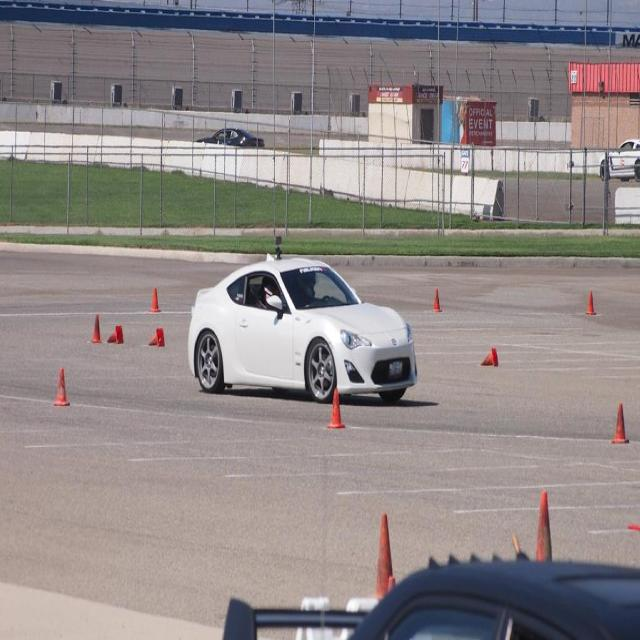car: (185, 252, 418, 411)
